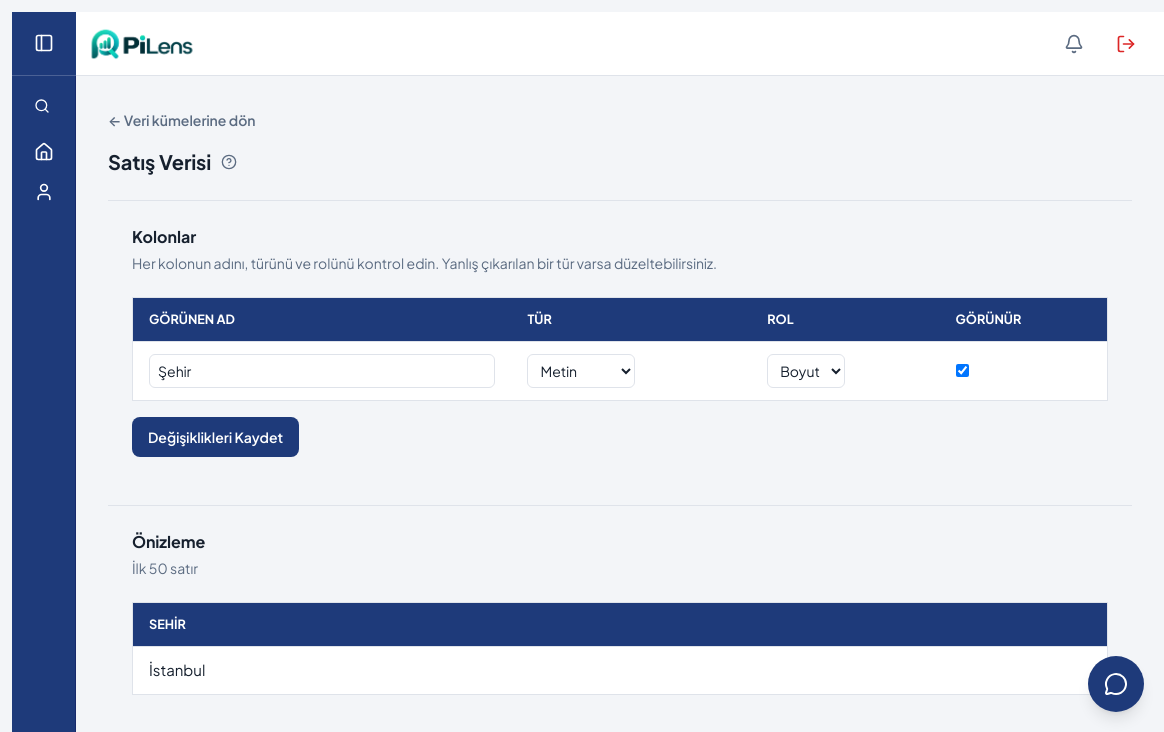
DatasetDetailPage › kolon adi degistirilip kaydedilince guncelleme istegi atar
Replace the text in the field showing "Şehir" with "İl" at (322, 371), box x1=149 y1=354 x2=495 y2=388
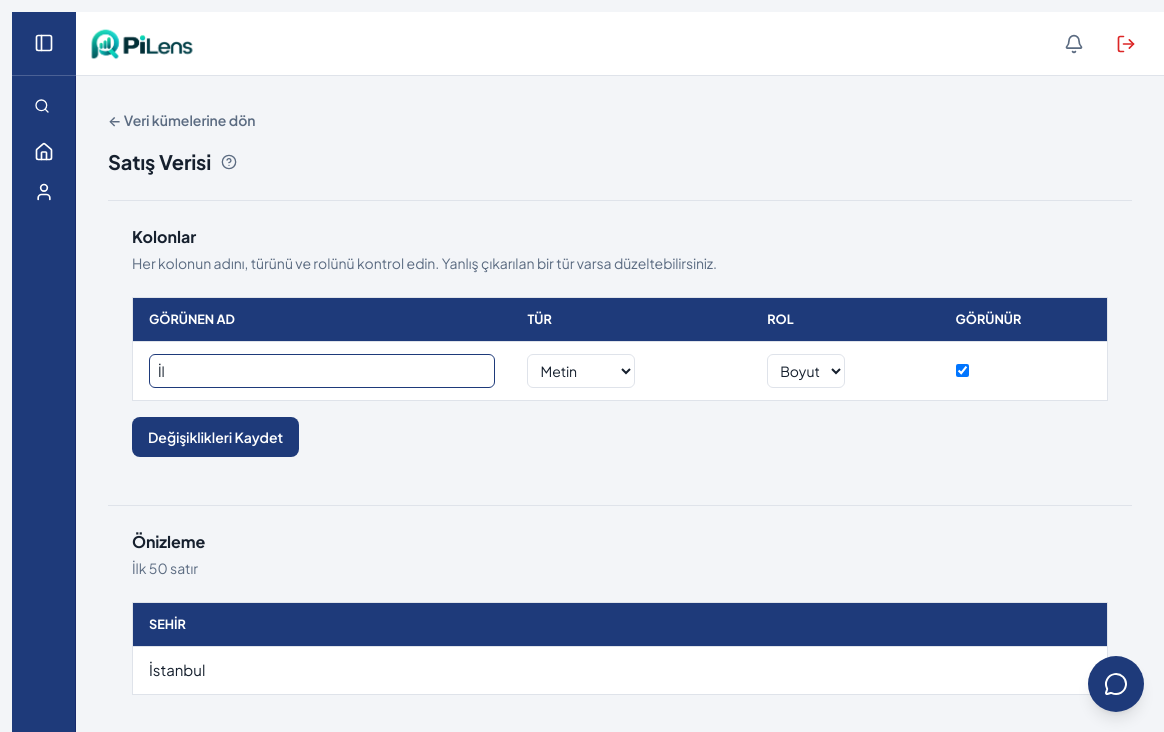
Click the button "Değişiklikleri Kaydet" at (216, 437), box x1=132 y1=417 x2=299 y2=457
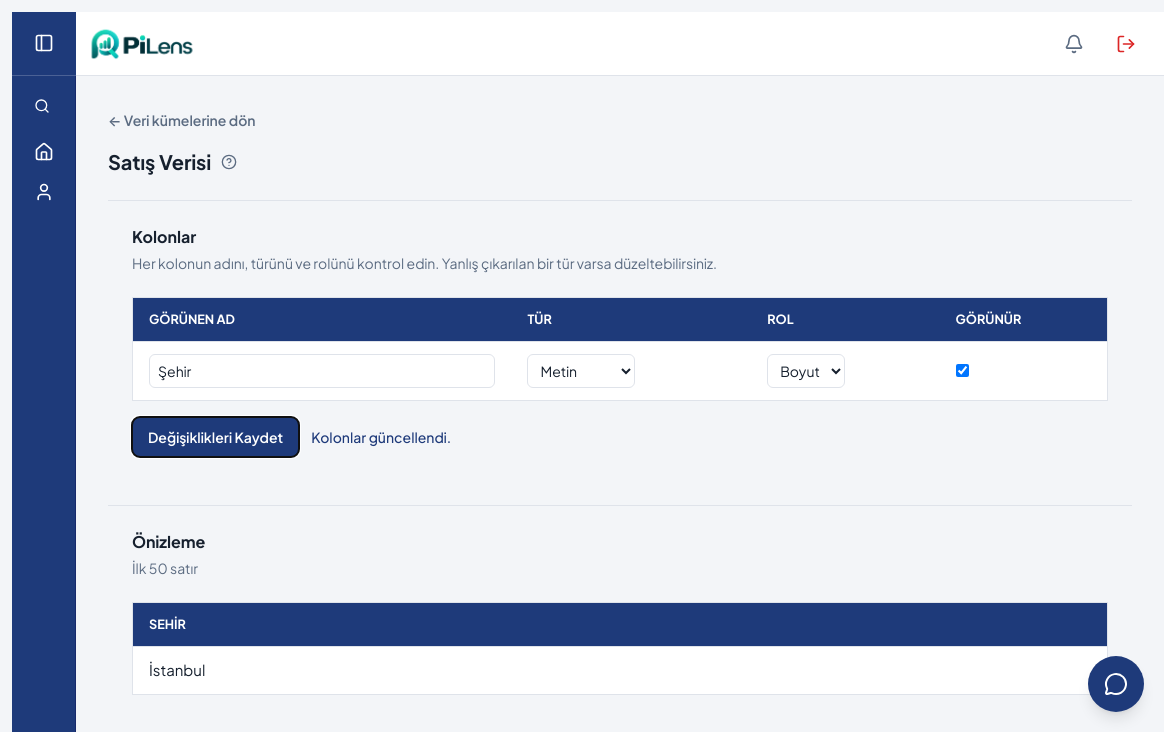
Now the text "Kolonlar güncellendi." is shown, box x1=311 y1=427 x2=451 y2=447
